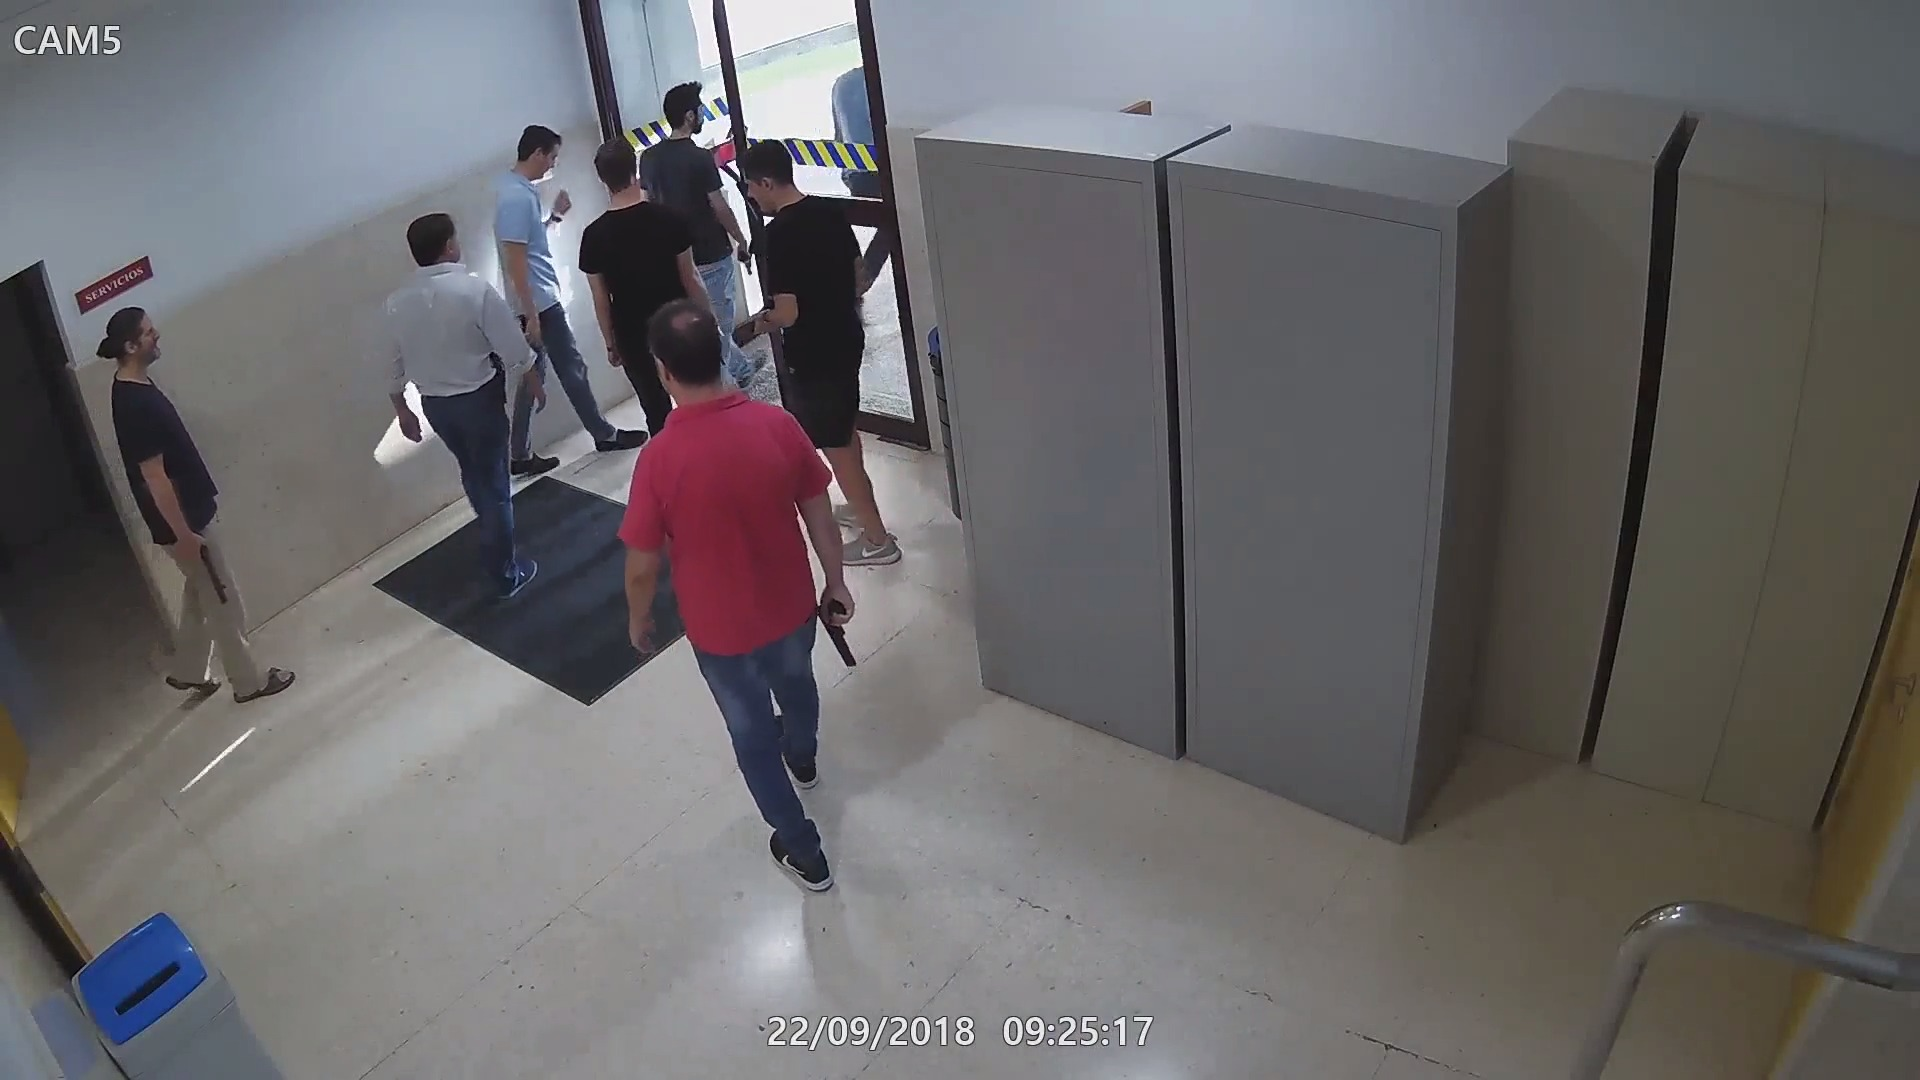Handgun: (814, 582, 866, 670), (731, 240, 760, 281), (489, 375, 517, 409), (745, 305, 777, 334)
Short_rifle: (177, 531, 232, 607)
